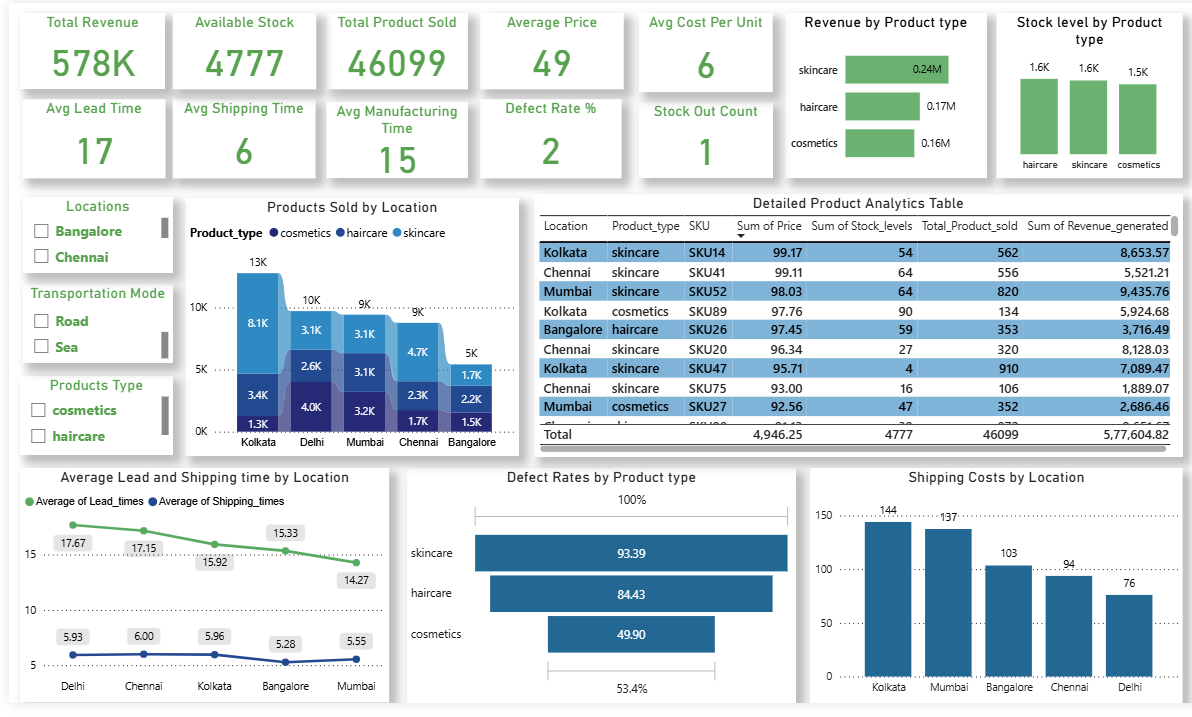

Layout of this report page (visuals, bound fields, positions):
{"tool":"powerbi","page":{"name":"Page 1","canvas":[1370,800],"ordinal":0},"visuals":[{"type":"card","title":"Total Revenue","fields":{"Values":["Sum(cleaned_dataset csv.Revenue_generated)"]},"box":[12.9,11.4,165.7,87.1],"z":0},{"type":"card","title":"Total Product Sold","fields":{"Values":["cleaned_dataset csv.Total_Product_sold"]},"box":[362.9,11.4,161.4,87.1],"z":1000},{"type":"card","title":"Average Price","fields":{"Values":["cleaned_dataset csv.Average_price"]},"box":[538.6,11.4,164.3,87.1],"z":2000},{"type":"card","title":"Avg Lead Time","fields":{"Values":["cleaned_dataset csv.Average_Lead_Time"]},"box":[15.7,110,162.9,90],"z":3000},{"type":"card","title":"Avg Shipping Time","fields":{"Values":["cleaned_dataset csv.Average_shipping_time"]},"box":[187.1,110,162.9,90],"z":4000},{"type":"card","title":"Avg Cost Per Unit","fields":{"Values":["cleaned_dataset csv.Average_cost"]},"box":[720,11.4,152.9,90],"z":5000},{"type":"card","title":"Avg Manufacturing Time","fields":{"Values":["cleaned_dataset csv.Average_Manufacturing_time"]},"box":[362.9,112.9,161.4,87.1],"z":6000},{"type":"card","title":"Defect Rate %","fields":{"Values":["cleaned_dataset csv.Defect Rate %"]},"box":[538.6,110,161.4,90],"z":7000},{"type":"slicer","title":"Locations","fields":{"Values":["cleaned_dataset csv.Location"]},"box":[15.7,221.4,171.4,87.1],"z":8000},{"type":"slicer","title":"Transportation Mode","fields":{"Values":["cleaned_dataset csv.Transportation_modes"]},"box":[15.7,321.4,171.4,90],"z":9000},{"type":"card","title":"Available Stock","fields":{"Values":["cleaned_dataset csv.Available Stock"]},"box":[187.1,11.4,164.3,87.1],"z":10000},{"type":"slicer","title":"Products Type","fields":{"Values":["cleaned_dataset csv.Product_type"]},"box":[12.9,425.7,174.3,91.4],"z":11000},{"type":"card","title":"Stock Out Count","fields":{"Values":["cleaned_dataset csv.Stock Out Counts"]},"box":[720,112.9,152.9,87.1],"z":12000},{"type":"clusteredBarChart","title":" Revenue  by Product type","fields":{"Y":["Sum(cleaned_dataset csv.Revenue_generated)"],"Category":["cleaned_dataset csv.Product_type"]},"box":[887.1,11.4,230,188.6],"z":13000},{"type":"columnChart","title":"Products Sold by Location","fields":{"Y":["Sum(cleaned_dataset csv.Number_of_products_sold)"],"Category":["cleaned_dataset csv.Location"],"Series":["cleaned_dataset csv.Product_type"]},"box":[201.7,223.3,381.7,295],"z":14000},{"type":"clusteredColumnChart","title":"Stock level by Product type","fields":{"Category":["cleaned_dataset csv.Product_type"],"Y":["Sum(cleaned_dataset csv.Stock_levels)"]},"box":[1128.6,11.4,212.9,188.6],"z":15000},{"type":"lineChart","title":"Average Lead and Shipping time  by  Location","fields":{"Y":["Avg(cleaned_dataset csv.Lead_times)","Avg(cleaned_dataset csv.Shipping_times)"],"Category":["cleaned_dataset csv.Location"]},"box":[13.3,531.7,421.7,268.3],"z":16000},{"type":"tableEx","title":"Detailed Product Analytics Table","fields":{"Values":["cleaned_dataset csv.Location","cleaned_dataset csv.Product_type","cleaned_dataset csv.SKU","Sum(cleaned_dataset csv.Price)","Sum(cleaned_dataset csv.Stock_levels)","cleaned_dataset csv.Total_Product_sold","Sum(cleaned_dataset csv.Revenue_generated)"]},"box":[600,218.6,741.4,300],"z":17000},{"type":"funnel","title":"Defect Rates by Product type","fields":{"Category":["cleaned_dataset csv.Product_type"],"Y":["Sum(cleaned_dataset csv.Defect_rates)"]},"box":[454.3,531.4,445.7,268.6],"z":18000},{"type":"clusteredColumnChart","title":"Shipping Costs by Location","fields":{"Category":["cleaned_dataset csv.Location"],"Y":["Sum(cleaned_dataset csv.Shipping_costs)"]},"box":[915.7,531.4,425.7,268.6],"z":19000}]}

Visuals, with their boxes in screenshot pixels (x1, y1, x2, y2), scaled from the page's 1370x800 canvas onto the 1192x717 screenshot:
"Total Revenue" card: 11,10,155,88
"Total Product Sold" card: 316,10,456,88
"Average Price" card: 469,10,612,88
"Avg Lead Time" card: 14,99,155,179
"Avg Shipping Time" card: 163,99,305,179
"Avg Cost Per Unit" card: 626,10,759,91
"Avg Manufacturing Time" card: 316,101,456,179
"Defect Rate %" card: 469,99,609,179
"Locations" slicer: 14,198,163,276
"Transportation Mode" slicer: 14,288,163,369
"Available Stock" card: 163,10,306,88
"Products Type" slicer: 11,382,163,463
"Stock Out Count" card: 626,101,759,179
" Revenue  by Product type" clusteredBarChart: 772,10,972,179
"Products Sold by Location" columnChart: 175,200,508,465
"Stock level by Product type" clusteredColumnChart: 982,10,1167,179
"Average Lead and Shipping time  by  Location" lineChart: 12,477,378,716
"Detailed Product Analytics Table" tableEx: 522,196,1167,465
"Defect Rates by Product type" funnel: 395,476,783,716
"Shipping Costs by Location" clusteredColumnChart: 797,476,1167,716
